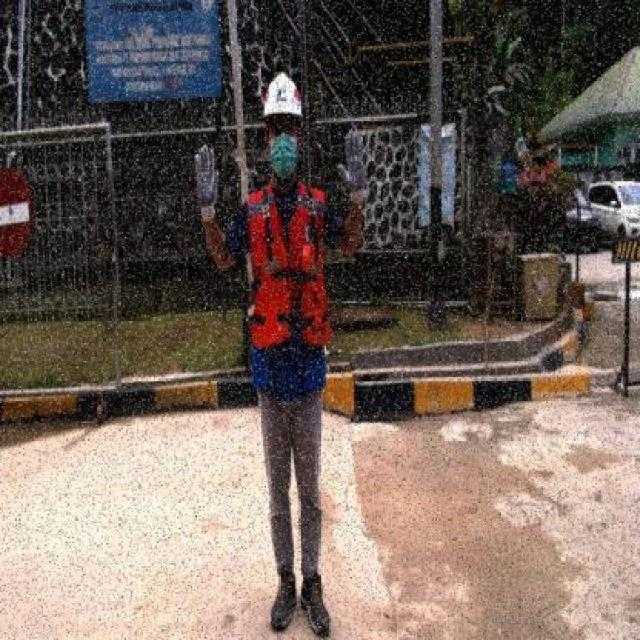Boots: (298, 570, 332, 638), (271, 568, 298, 630)
Gloves: (337, 128, 369, 208), (193, 144, 219, 225)
Helmet: (261, 69, 304, 122)
Mask: (268, 136, 298, 178)
Vest: (251, 240, 332, 351)
